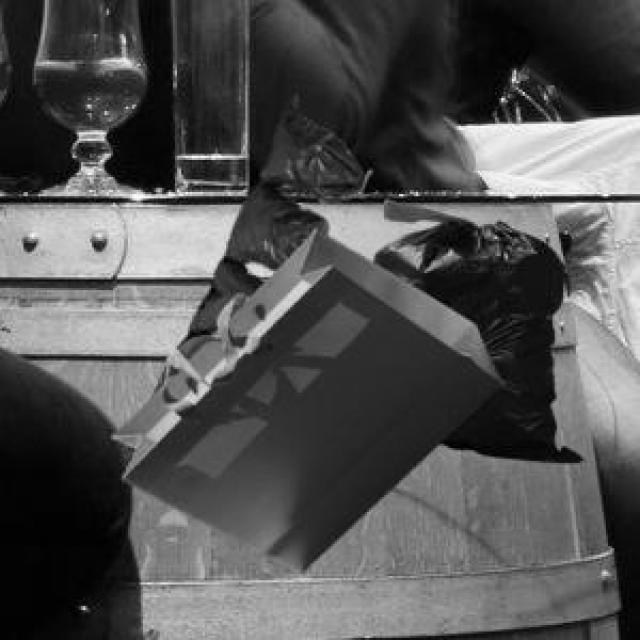miscellaneous trash: (122, 92, 358, 461), (369, 196, 578, 459)
paper: (109, 226, 497, 568)
